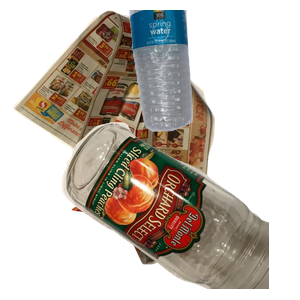glass: (60, 120, 300, 300)
paper: (10, 10, 217, 189)
plastic: (127, 10, 300, 134)
trash: (69, 153, 239, 300)
